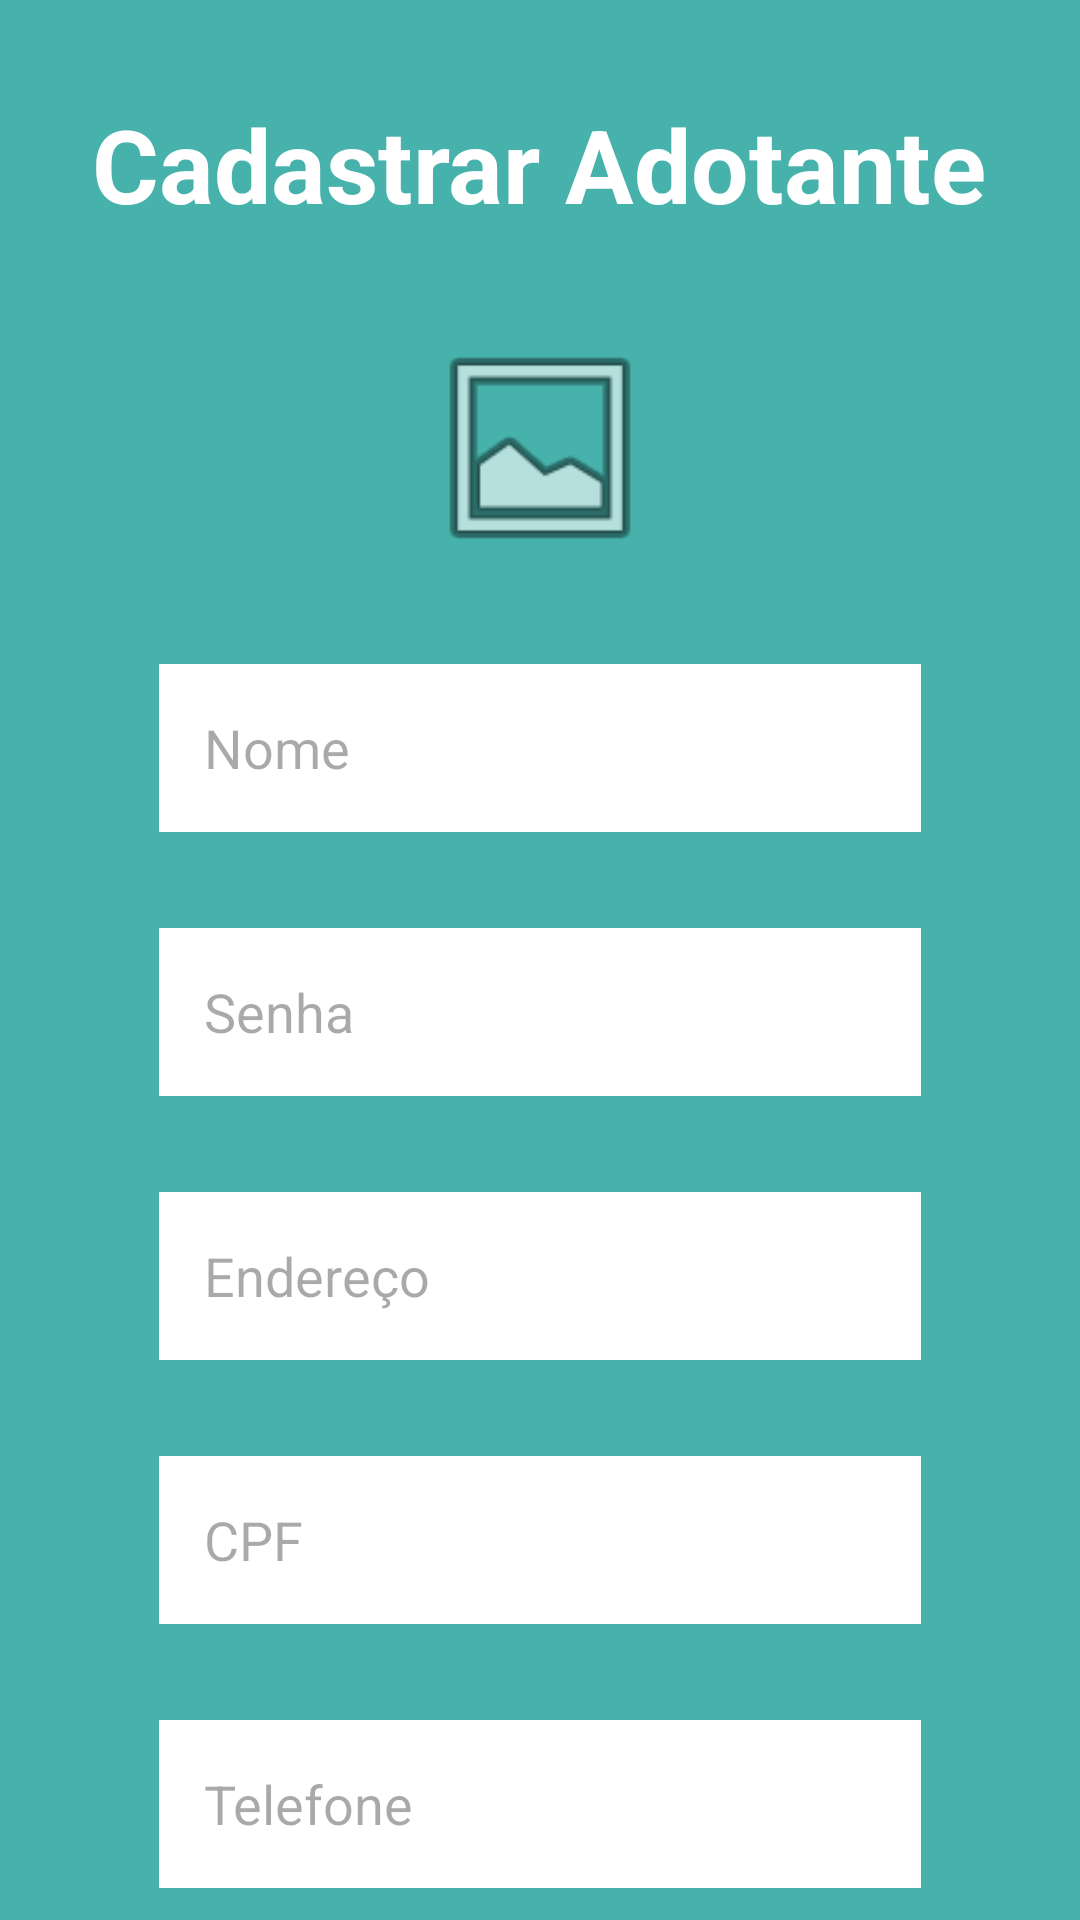

Screen size 1080 x 1920. Icon name, then its center in pixels as (x,y):
gallery: (540,448)
